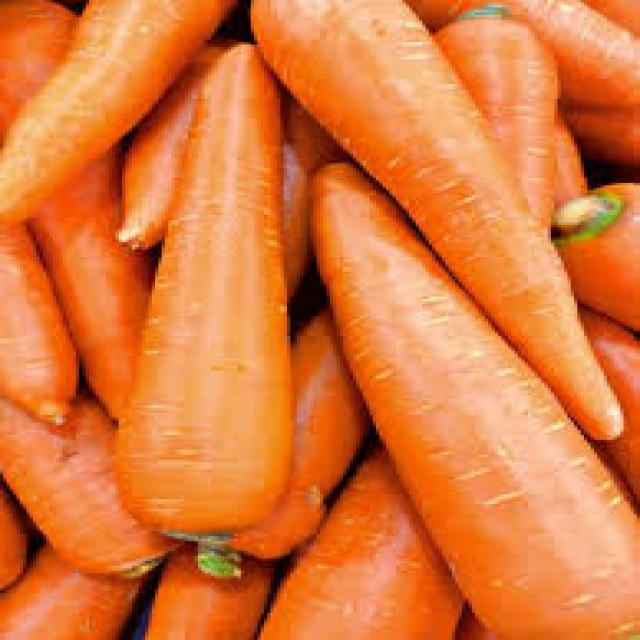Carrot: (153, 46, 277, 556)
